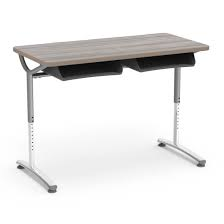desk: (11, 32, 205, 192)
